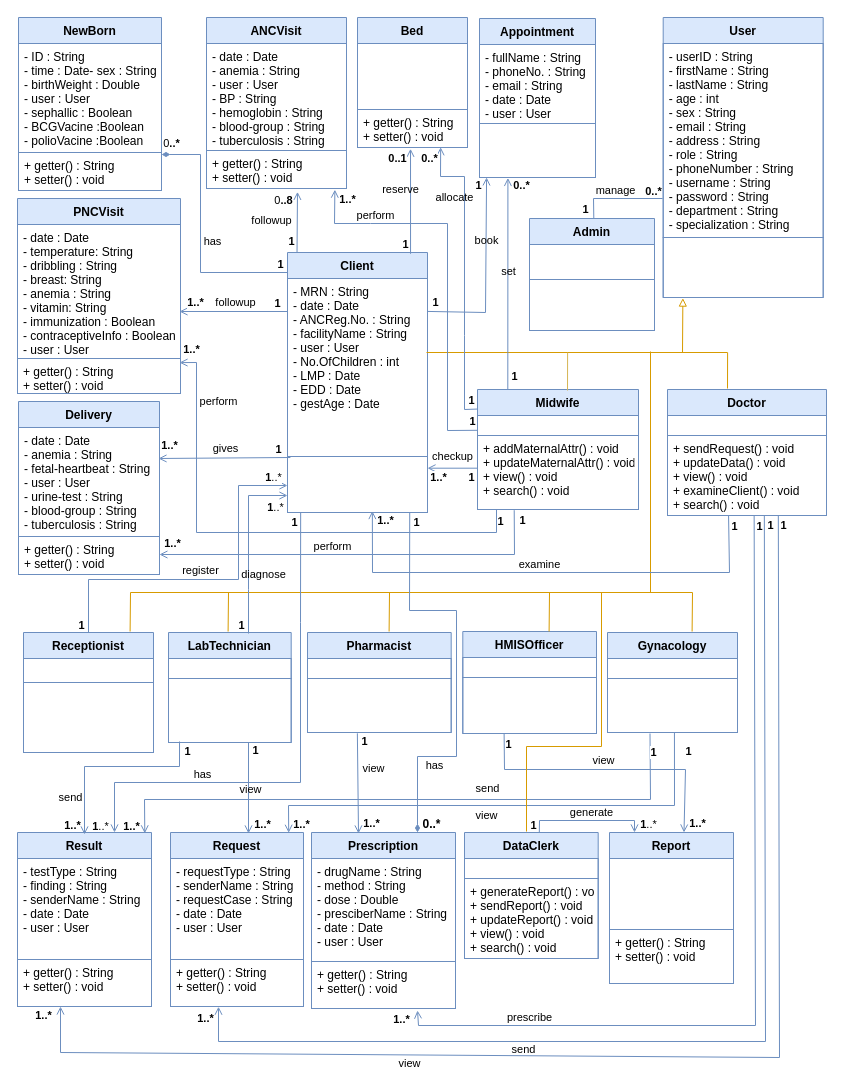
The diagram is 844 pixels wide and 1087 high, and some of its shapes have lost their labels. The centre of each missing label's shape, as x and y in pixels:
+ addClient(): void + updateData(): void + getter() : String + setter() : void: (88,717)
+ addUser() : void + updateUser() : void + deactivateUser() : void: (591,304)
+ book() : void + getter() : String + setter() : void: (537,150)
+ login() : void + getter() : getType + setter() : void: (742,267)
+ login() : void + view() : void + sendFeedback() : void: (357,484)
+ sendResult() : void + updateData() : void + view() : void + search() : void: (229,710)
+ viewPrescription :void + addDrugDetail() : void + search() : void: (378,705)
+ viewReport() : void + sendFeedback() : void: (529,705)
+ viewRequest() : void + performOpes() : void + search() : void: (672,705)
- reportID : String - reportType: String - date : Date - user : User: (671,894)
- roomNo. : int - bulidingID :String - bedNo. : int - user : User: (412,76)
- username : String - password : String: (591,262)
